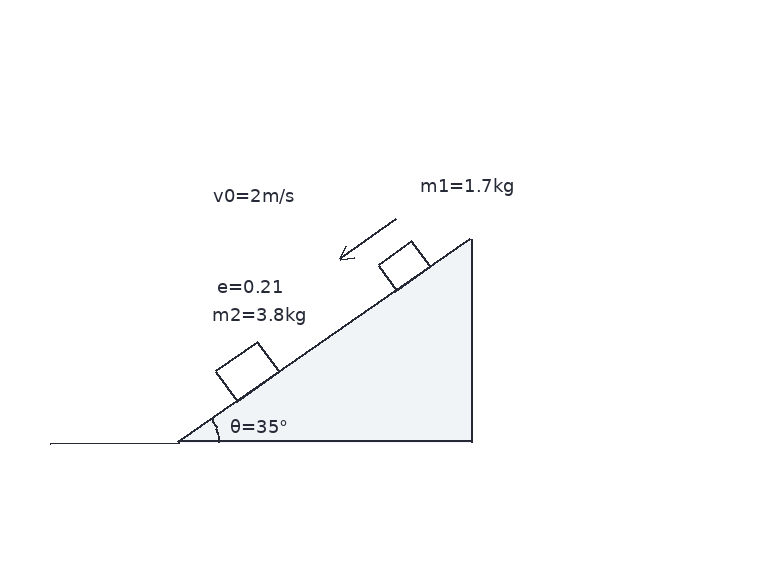block: (213, 340, 281, 404), (376, 239, 432, 292)
ramp: (177, 236, 473, 444)
